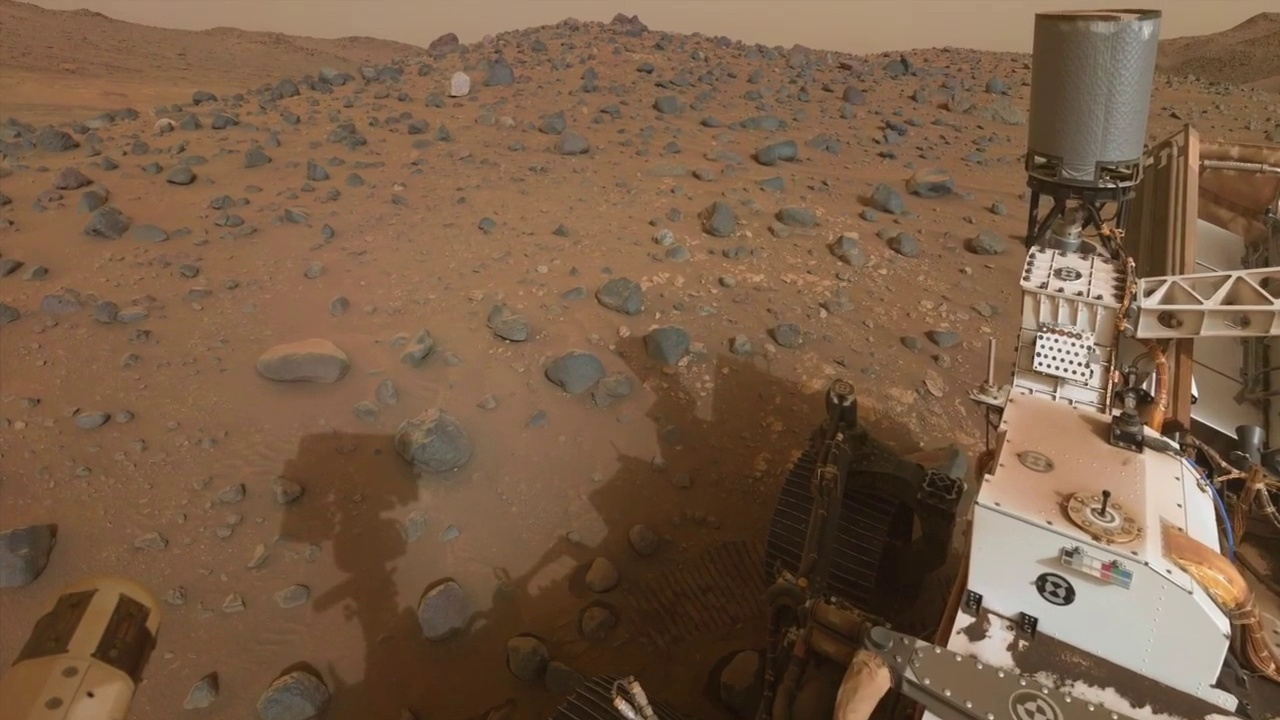rock: (544, 354, 606, 408), (856, 185, 908, 224), (595, 286, 641, 316), (166, 156, 207, 186), (697, 203, 732, 238), (899, 336, 940, 363), (876, 231, 916, 258), (766, 324, 807, 350), (962, 236, 1008, 256), (826, 236, 854, 265), (923, 330, 963, 350), (1098, 491, 1120, 527)
